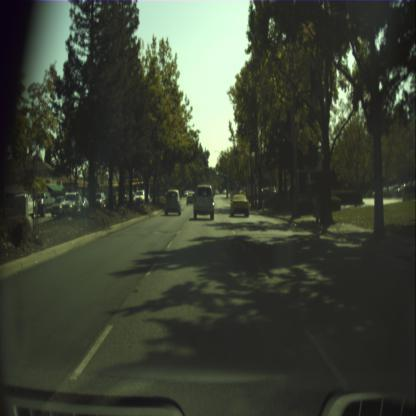Green: (200, 163, 202, 170), (210, 168, 212, 173), (228, 182, 229, 186)
Red: (188, 161, 190, 168)
